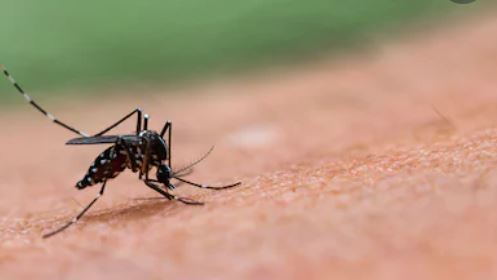dengue_mosquito: (16, 108, 241, 206)
